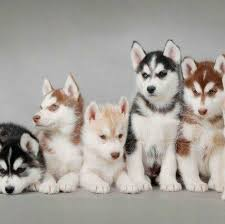husky: (29, 72, 84, 151), (79, 95, 136, 166), (126, 38, 185, 106), (175, 52, 224, 122), (1, 129, 49, 195)
